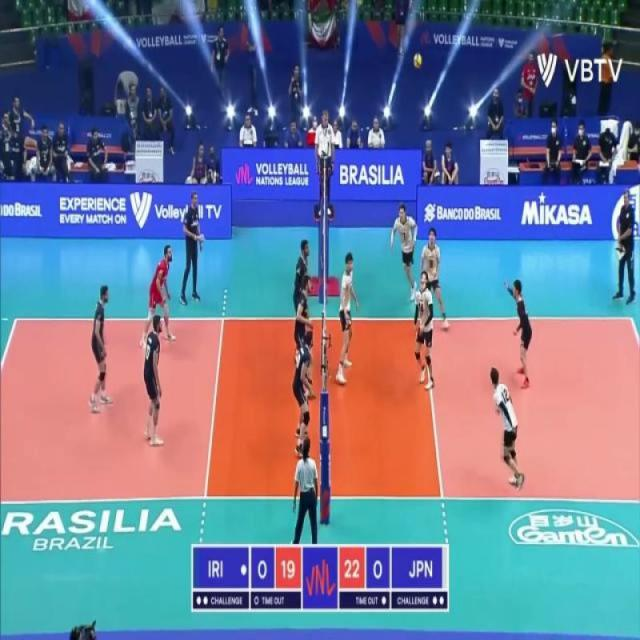volleyball: (413, 52, 423, 70)
